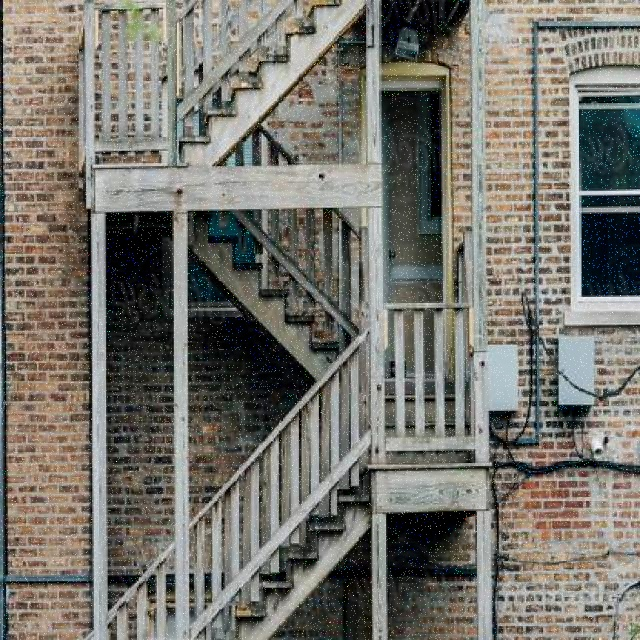stair: (26, 244, 494, 639), (99, 1, 421, 204)
